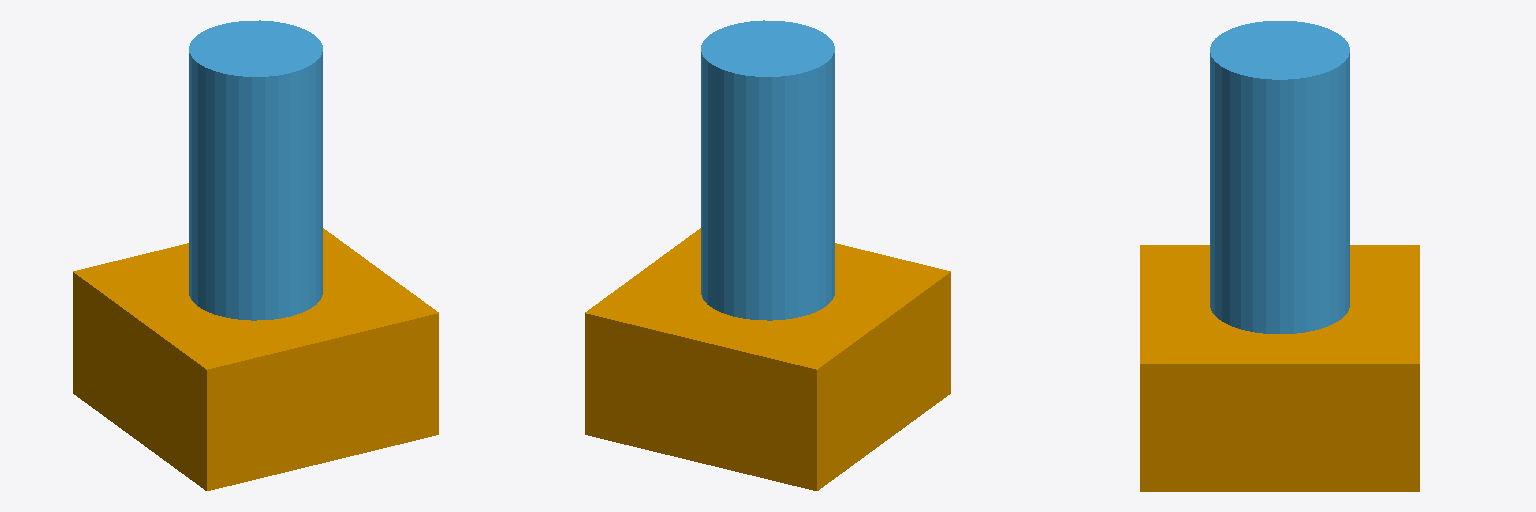
robot.urdf — panda:
<?xml version="1.0"?>

<robot name="panda">

<!-- BASE LINK -->

<link name="panda_link0">
  <inertial>
    <mass value="5"/>
    <origin xyz="0 0 0"/>
    <inertia ixx="1" iyy="1" izz="1" ixy="0" ixz="0" iyz="0"/>
  </inertial>

  <visual>
    <geometry>
      <box size="0.2 0.2 0.1"/>
    </geometry>
  </visual>

  <collision>
    <geometry>
      <box size="0.2 0.2 0.1"/>
    </geometry>
  </collision>
</link>

<!-- ==================== LINK 1 ==================== -->

<link name="panda_link1">
  <inertial>
    <mass value="3"/>
    <origin xyz="0 0 0"/>
    <inertia ixx="1" iyy="1" izz="1" ixy="0" ixz="0" iyz="0"/>
  </inertial>

  <visual>
    <geometry>
      <cylinder radius="0.05" length="0.3"/>
    </geometry>
  </visual>

  <collision>
    <geometry>
      <cylinder radius="0.05" length="0.3"/>
    </geometry>
  </collision>
</link>

<!-- ==================== JOINT 1 ==================== -->

<joint name="panda_joint1" type="revolute">
  <parent link="panda_link0"/>
  <child link="panda_link1"/>

  <origin xyz="0 0 0.1" rpy="0 0 0"/>

  <axis xyz="0 0 1"/>

  <limit lower="-3.14"
         upper="3.14"
         effort="100"
         velocity="2"/>
</joint>

<!-- ==================== TRANSMISSION ==================== -->

<transmission name="panda_joint1_trans">
  <type>transmission_interface/SimpleTransmission</type>

  <joint name="panda_joint1">
    <hardwareInterface>hardware_interface/PositionJointInterface</hardwareInterface>
  </joint>

  <actuator name="motor1">
    <mechanicalReduction>1</mechanicalReduction>
  </actuator>
</transmission>

<!-- ==================== ROS2 CONTROL ==================== -->

<ros2_control name="GazeboSystem" type="system">
  <hardware>
    <plugin>gazebo_ros2_control/GazeboSystem</plugin>
  </hardware>

  <joint name="panda_joint1">
    <command_interface name="position"/>
    <state_interface name="position"/>
    <state_interface name="velocity"/>
  </joint>

</ros2_control>

<!-- ==================== GAZEBO PLUGIN ==================== -->

<gazebo>
  <plugin name="gazebo_ros2_control"
          filename="libgazebo_ros2_control.so"/>
</gazebo>

</robot>

--- What the picture shows (computed from the rendered views, not written in the file) ---
Views: 3 orthographic renders of the robot side by side, from view 1: azimuth 30°, elevation 25°; view 2: azimuth 150°, elevation 25°; view 3: azimuth 270°, elevation 25°.
Model panda with 2 links and 1 joints (1 revolute), rooted at panda_link0, posed every joint at zero.
Visible links, largest first — view 1: panda_link0, panda_link1; view 2: panda_link0, panda_link1; view 3: panda_link0, panda_link1.
Link boxes in pixels (<box>): panda_link0: <box>73,228,438,490</box>; panda_link1: <box>189,20,322,320</box>; panda_link0: <box>585,228,950,490</box>; panda_link1: <box>701,20,834,320</box>; panda_link0: <box>1140,245,1419,491</box>; panda_link1: <box>1210,21,1349,333</box>.
Size in the robot's own frame: 0.2 by 0.2 by 0.3 metres.
Geometry: primitives only (box / cylinder / sphere), no mesh files.
